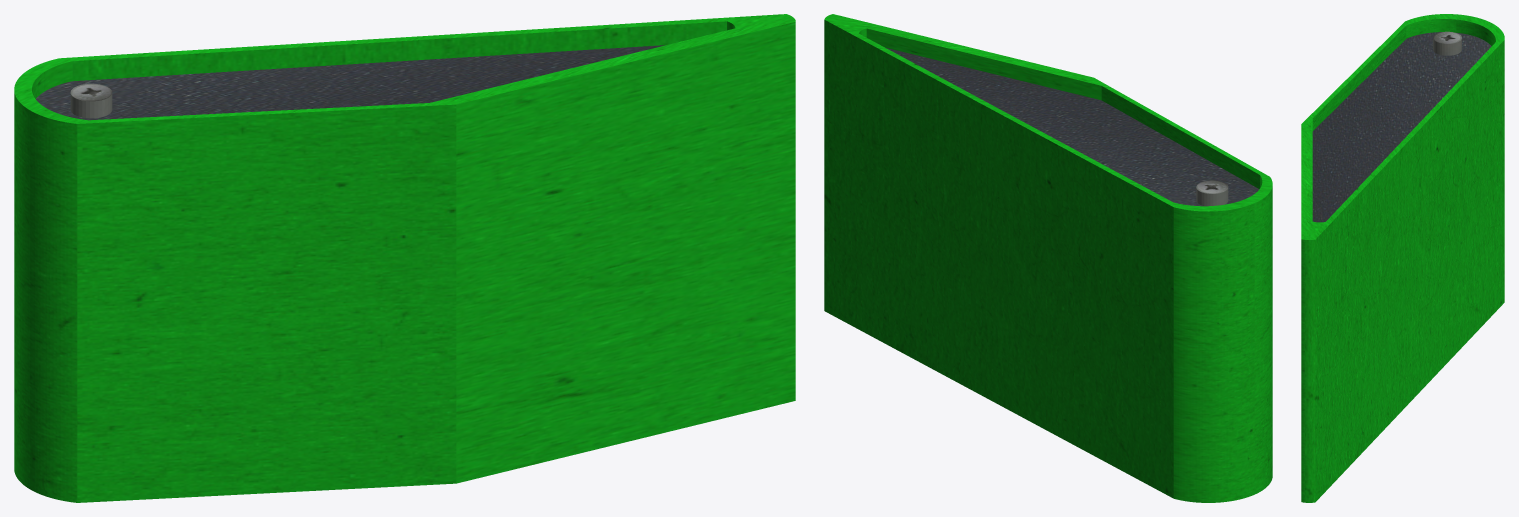
Rendered from LeftFlipper.obj.
3 views of the same model, side by side, from view 1: azimuth 30°, elevation 25°; view 2: azimuth 150°, elevation 25°; view 3: azimuth 270°, elevation 25° (orthographic). The views are drawn at different scales.
Parts seen in each view (by area): view 1: Cube.000_Cube.011, FlipperIn.001_Cube.007, Cylinder.003_Cylinder.007; view 2: Cube.000_Cube.011, FlipperIn.001_Cube.007, Cylinder.003_Cylinder.007; view 3: Cube.000_Cube.011, FlipperIn.001_Cube.007, Cylinder.003_Cylinder.007.
Part boxes in pixels (x1,y1,x2,y2): Cube.000_Cube.011: (14,14,795,502); FlipperIn.001_Cube.007: (36,45,665,120); Cylinder.003_Cylinder.007: (70,83,112,118); Cube.000_Cube.011: (824,14,1272,502); FlipperIn.001_Cube.007: (885,47,1259,206); Cylinder.003_Cylinder.007: (1196,180,1228,206); Cube.000_Cube.011: (1301,14,1504,502); FlipperIn.001_Cube.007: (1312,32,1491,222); Cylinder.003_Cylinder.007: (1433,31,1461,55).
Bounding box in the file's own units: 0.9223 × 0.5 × 0.3509.
4 materials, 4 textured.
